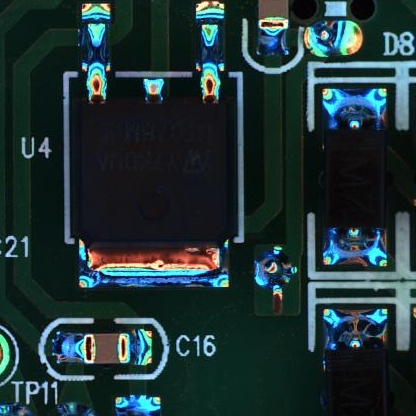spot: (304, 20, 364, 59), (254, 246, 298, 294)
